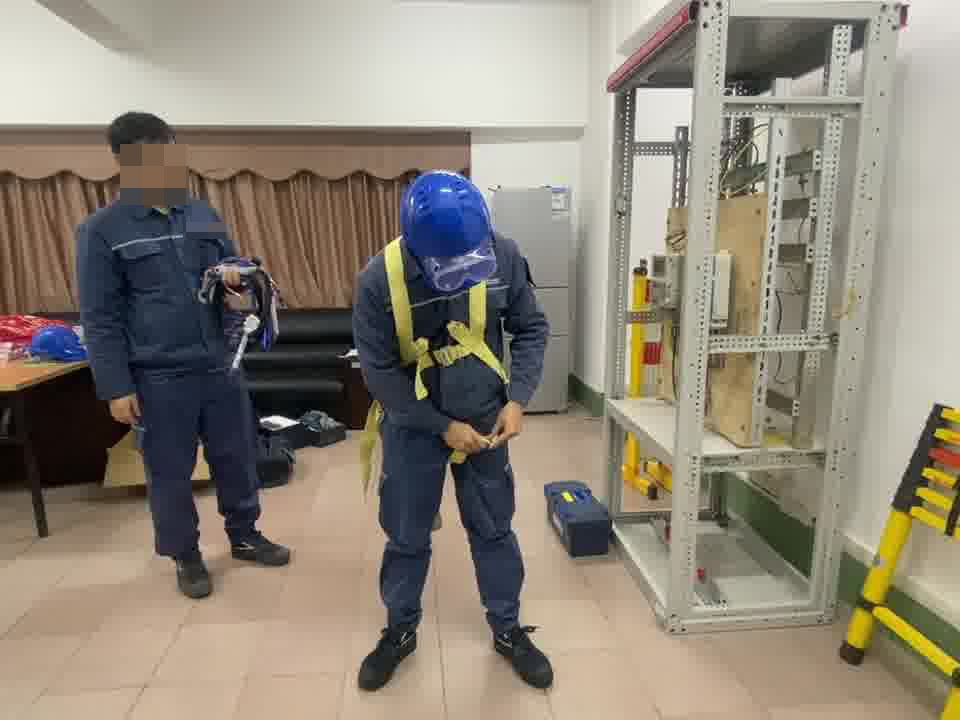downsuit: (373, 369, 531, 628), (134, 381, 264, 554)
halt: (399, 171, 492, 268)
hand: (489, 399, 534, 444), (444, 419, 493, 456), (109, 389, 149, 428), (220, 262, 247, 289)
noear: (112, 149, 132, 176)
person: (349, 167, 558, 688), (80, 104, 283, 586)
safebelt: (356, 234, 536, 492)
unhalt: (107, 111, 185, 199)
upsuit: (353, 228, 547, 391), (83, 197, 239, 374)
